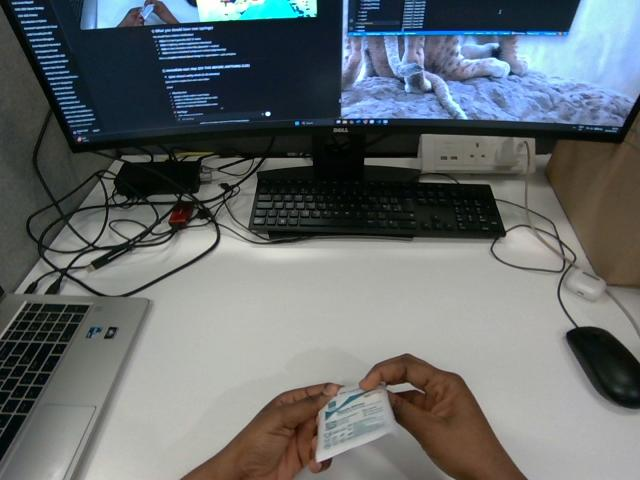gauze: (315, 386, 396, 461)
